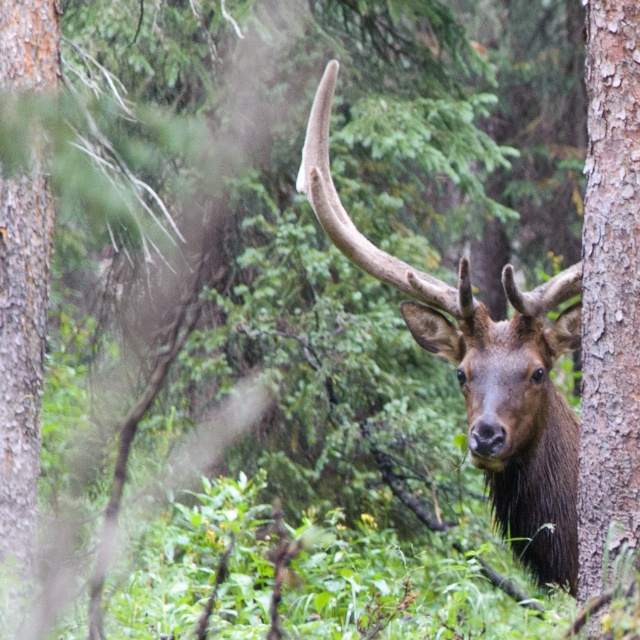Deer: (295, 59, 583, 596)
